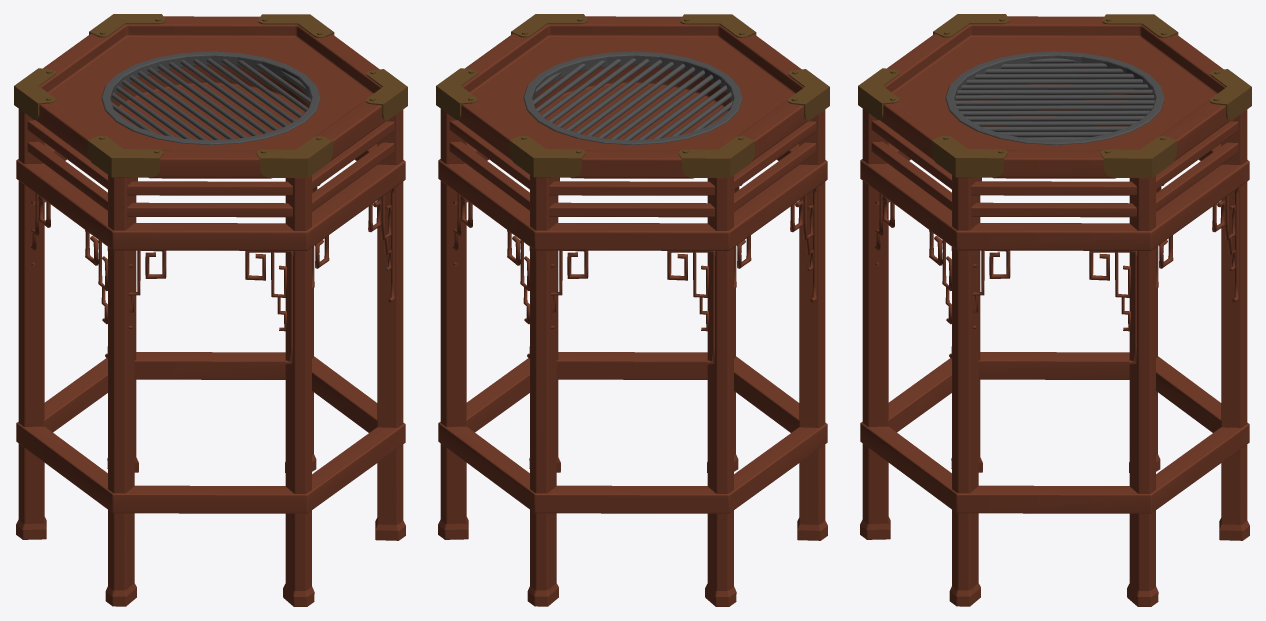
The picture shows the model from 3 angles, left to right: view 1: azimuth 30°, elevation 25°; view 2: azimuth 150°, elevation 25°; view 3: azimuth 270°, elevation 25°; orthographic projection.
Visible parts, largest first — view 1: pSphere.013, pSphere.115; view 2: pSphere.013, pSphere.115; view 3: pSphere.013, pSphere.115.
Boxes of the visible parts, <box> form: pSphere.013: <box>14,14,407,606</box>; pSphere.115: <box>101,51,387,270</box>; pSphere.013: <box>436,14,829,606</box>; pSphere.115: <box>523,51,742,144</box>; pSphere.013: <box>858,14,1251,606</box>; pSphere.115: <box>945,51,1164,144</box>.
Size of the model in its own units: 66.05 by 96.01 by 76.02.
